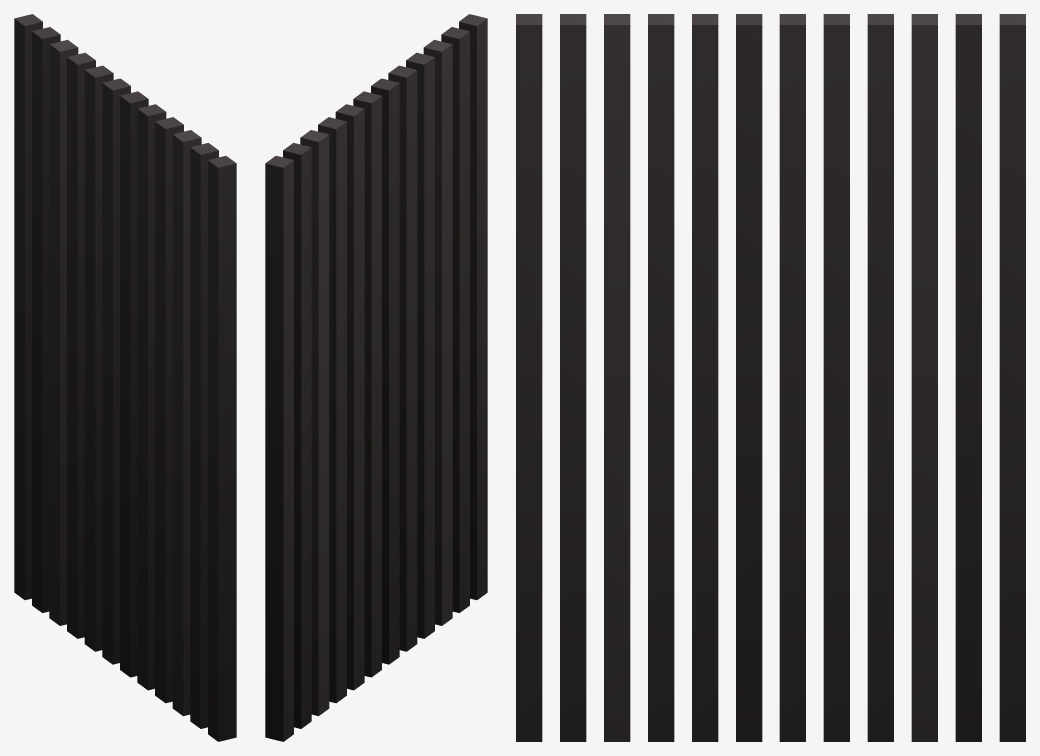
The model's file is TSP_Interior_Wall_Regular_01B.fbx.
The picture shows the model from 3 angles, left to right: view 1: azimuth 30°, elevation 25°; view 2: azimuth 150°, elevation 25°; view 3: azimuth 270°, elevation 25°; orthographic projection. The views are drawn at different scales.
Parts seen in each view (by area): view 1: TSP_Interior_Wall_Regular_01B; view 2: TSP_Interior_Wall_Regular_01B; view 3: TSP_Interior_Wall_Regular_01B.
Part boxes in pixels (<box>): TSP_Interior_Wall_Regular_01B: <box>14,14,236,741</box>; TSP_Interior_Wall_Regular_01B: <box>265,14,487,741</box>; TSP_Interior_Wall_Regular_01B: <box>516,14,1025,741</box>.
Bounding box in the file's own units: 0.1 × 3 × 1.93.
